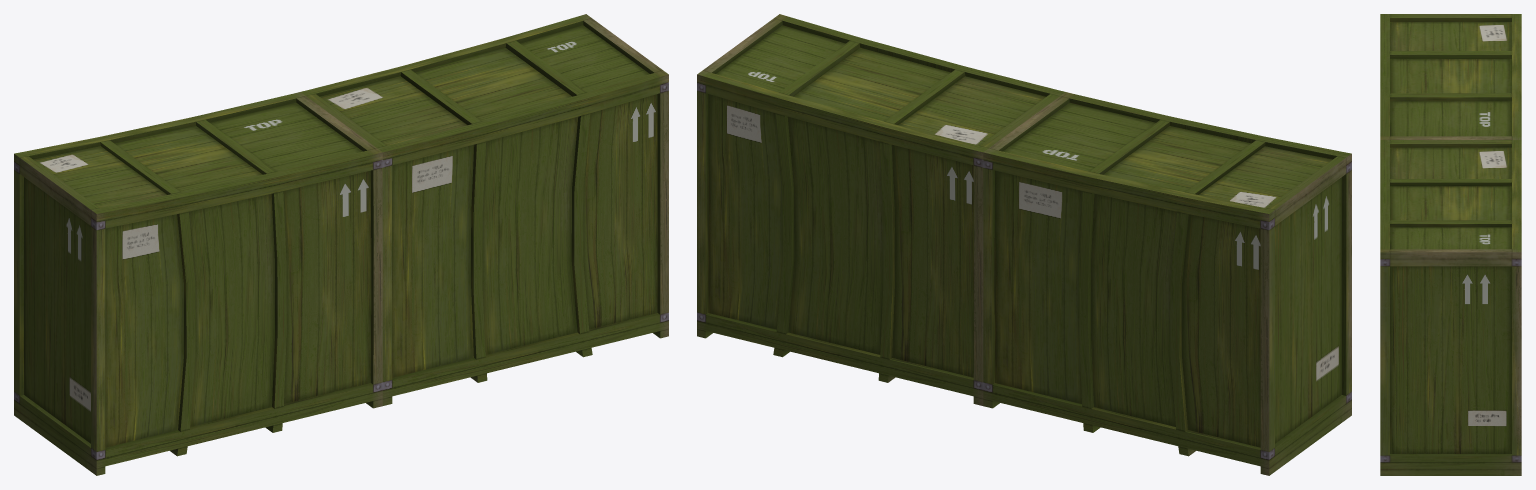
Rendered from Crate02_2.FBX.
The picture shows the model from 3 angles, left to right: view 1: azimuth 30°, elevation 25°; view 2: azimuth 150°, elevation 25°; view 3: azimuth 270°, elevation 25°; orthographic projection. The views are drawn at different scales.
Visible parts, largest first — view 1: Crate02_2; view 2: Crate02_2; view 3: Crate02_2.
Part boxes in pixels (x1,y1,x2,y2): Crate02_2: (14,14,668,475); Crate02_2: (697,14,1351,475); Crate02_2: (1380,14,1521,475).
Size of what is drawn, in the model's own units: 4 by 1.75 by 1.
